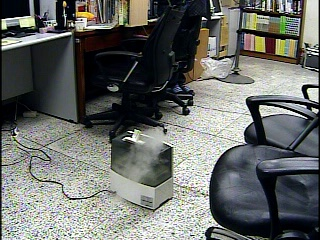smoke: (113, 125, 169, 182)
